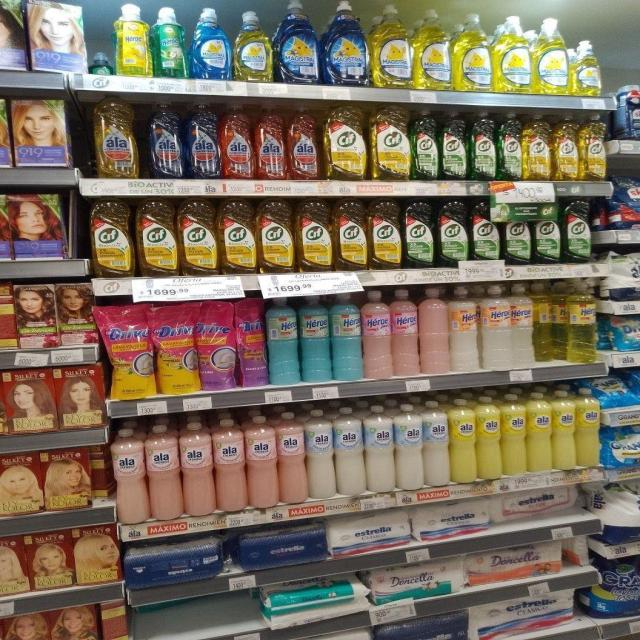ala_conc_amarillo: (91, 94, 139, 178)
ala_conc_azul: (146, 98, 184, 179), (186, 100, 220, 179)
ala_conc_rojo: (287, 102, 321, 180), (221, 102, 254, 180), (255, 101, 286, 180)
ala_crem_amarillo: (450, 397, 476, 484), (477, 394, 501, 480), (527, 390, 552, 472), (502, 392, 526, 476), (552, 387, 576, 470), (576, 386, 600, 468)
ala_crem_blanco: (365, 404, 394, 494), (306, 408, 334, 500), (336, 406, 364, 496), (395, 402, 423, 491), (424, 399, 449, 488)
ala_crem_rosado: (147, 421, 180, 521), (113, 426, 146, 524), (181, 419, 213, 517), (214, 415, 245, 513), (246, 413, 277, 508), (278, 411, 306, 505)
ala_sachet_amarillo: (0, 535, 27, 596)
cif_conc_bot_amarilla: (90, 196, 133, 277), (324, 103, 367, 181), (136, 196, 177, 276), (370, 105, 410, 181), (179, 197, 217, 276), (218, 197, 256, 275), (256, 198, 294, 274), (295, 197, 332, 273), (333, 197, 367, 272), (368, 197, 402, 270), (522, 111, 552, 181), (579, 112, 606, 182), (552, 111, 578, 180)
cif_conc_botella_verde: (403, 197, 435, 269), (437, 197, 468, 267), (411, 107, 439, 181), (440, 109, 468, 180), (470, 197, 500, 263), (563, 196, 592, 264), (469, 110, 496, 181), (533, 198, 561, 264), (497, 110, 522, 180), (502, 210, 532, 266)
drive: (104, 303, 152, 400), (154, 301, 196, 395), (198, 299, 235, 390), (7, 368, 56, 434), (46, 448, 93, 509), (0, 452, 42, 514)
heroe: (331, 292, 361, 382), (300, 294, 330, 384), (268, 296, 298, 385), (362, 290, 391, 380), (480, 284, 510, 370), (115, 3, 150, 76), (449, 286, 478, 372), (391, 288, 419, 377), (567, 281, 597, 363), (511, 282, 534, 368)
magistral_con_amarillo: (371, 4, 411, 88), (413, 8, 451, 90), (493, 15, 532, 94), (453, 12, 491, 92), (233, 10, 273, 82), (533, 17, 569, 95), (571, 40, 604, 96)
magistral_con_azul: (190, 7, 230, 80)
